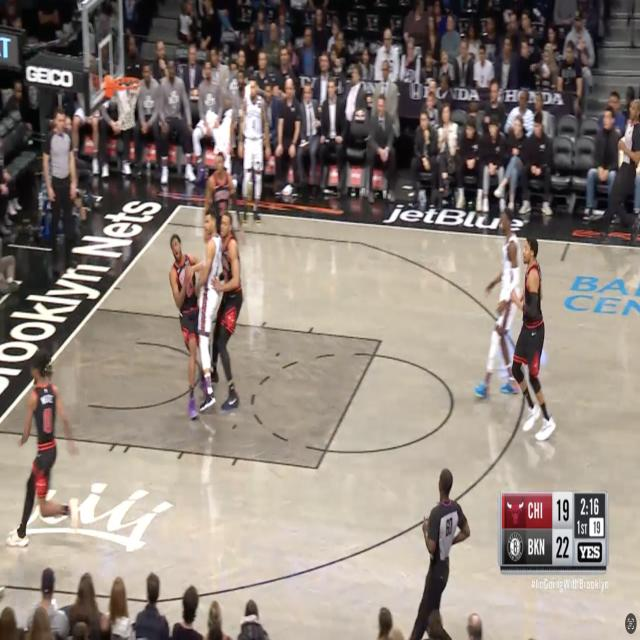Foul: (159, 204, 226, 414)
